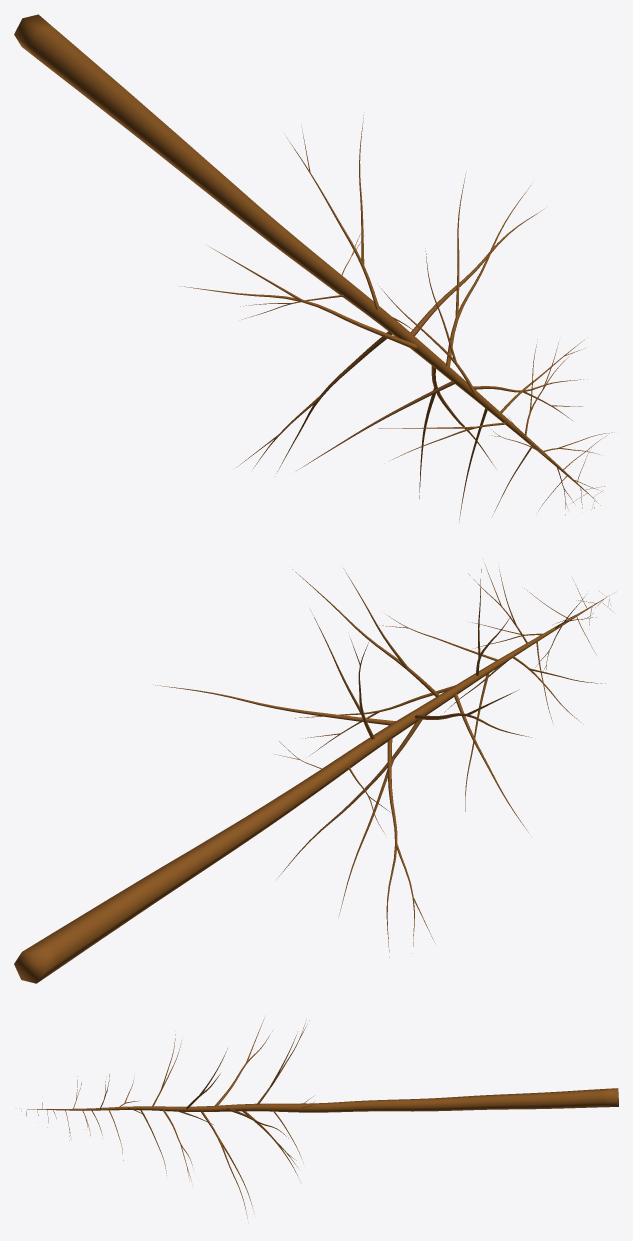
Rendered from pohon jatoh 1.fbx.
3 views of the same model, one above another, from view 1: azimuth 30°, elevation 25°; view 2: azimuth 150°, elevation 25°; view 3: azimuth 270°, elevation 25° (orthographic). The views are drawn at different scales.
Visible parts, largest first — view 1: tree.003; view 2: tree.003; view 3: tree.003.
Part boxes in pixels (box(x1,y1,x2,y2)): tree.003: box(14, 14, 614, 521); tree.003: box(14, 565, 610, 983); tree.003: box(19, 1018, 618, 1217).
Size of the model in its own units: 1483 by 1334 by 3919.
